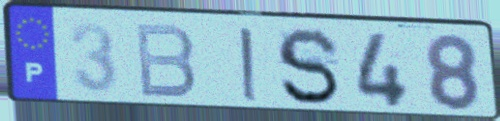3: (68, 20, 122, 97)
4: (352, 30, 413, 109)
8: (422, 31, 483, 113)
B: (132, 21, 199, 101)
I: (236, 25, 262, 104)
S: (273, 25, 344, 108)
